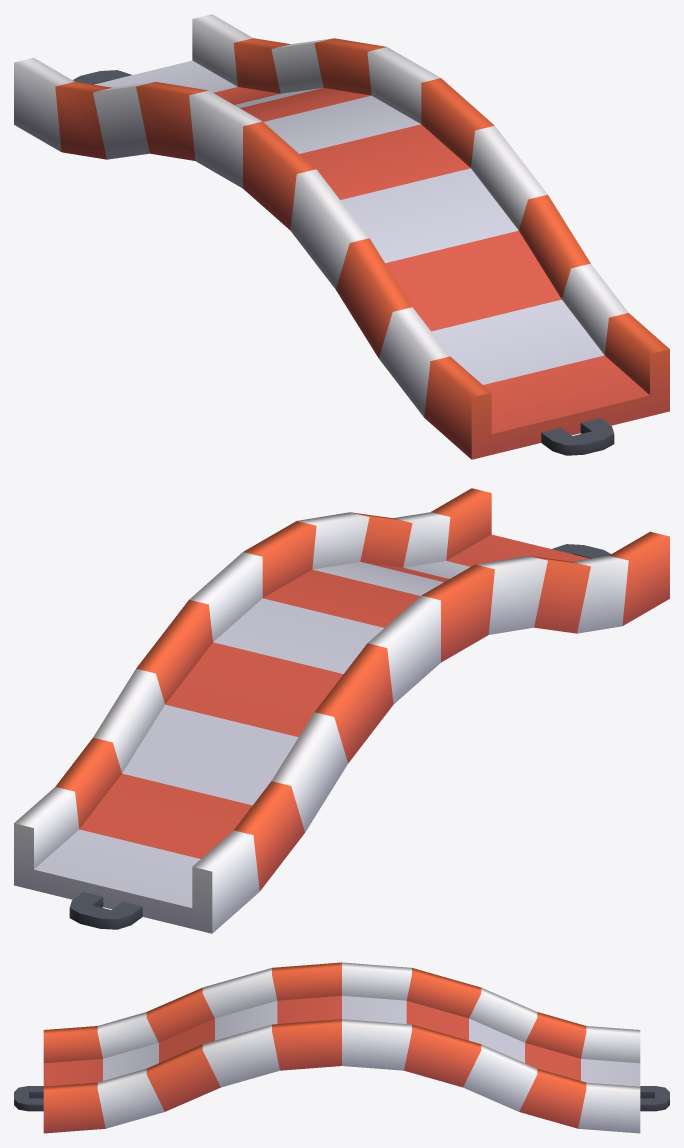
Rendered from track-striped-narrow-straight-bump-up.glb.
3 views of the same model, one above another, from view 1: azimuth 30°, elevation 25°; view 2: azimuth 150°, elevation 25°; view 3: azimuth 270°, elevation 25° (orthographic). The views are drawn at different scales.
Visible parts, largest first — view 1: track-striped-narrow-straight-bump-up; view 2: track-striped-narrow-straight-bump-up; view 3: track-striped-narrow-straight-bump-up.
Part boxes in pixels (<box>): track-striped-narrow-straight-bump-up: <box>14,14,669,459</box>; track-striped-narrow-straight-bump-up: <box>14,488,669,933</box>; track-striped-narrow-straight-bump-up: <box>14,962,669,1133</box>.
Size of the model in its own units: 1 by 0.7998 by 4.4.
1 material, 1 textured.
